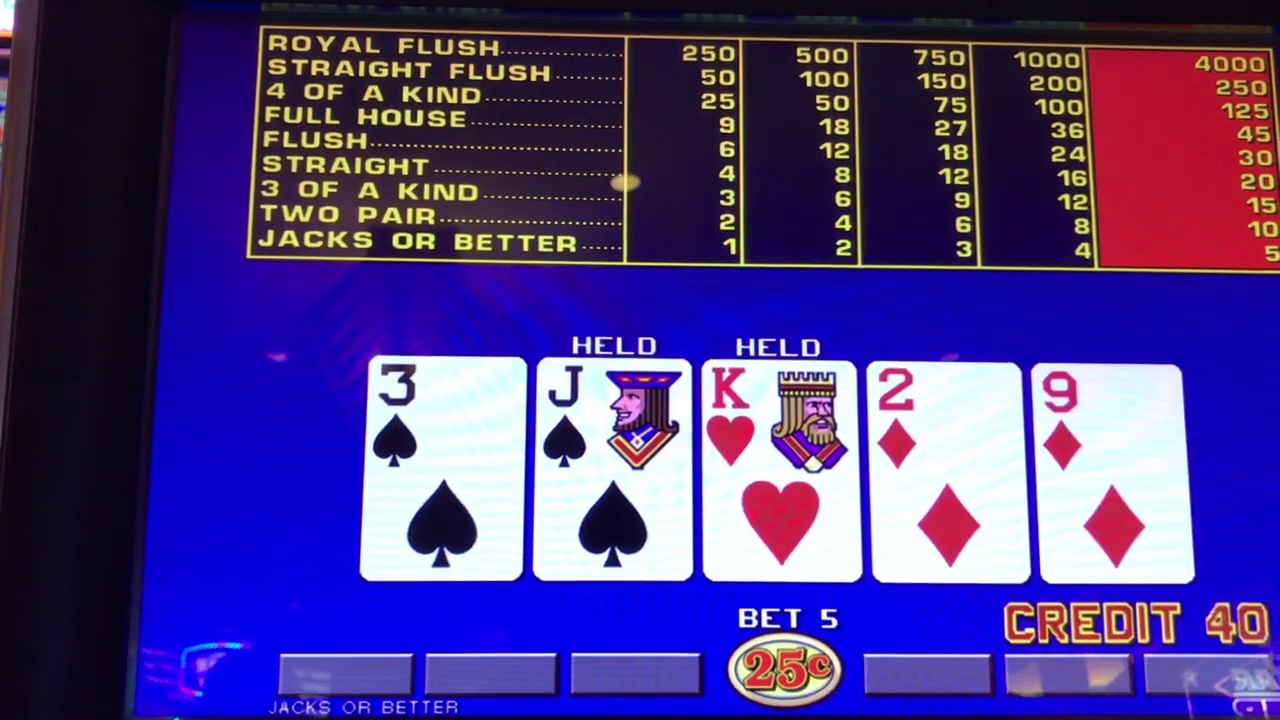D2: (876, 364, 1019, 581)
D9: (1041, 366, 1182, 582)
HK: (702, 361, 860, 582)
S3: (372, 358, 515, 576)
SJ: (540, 361, 685, 580)
